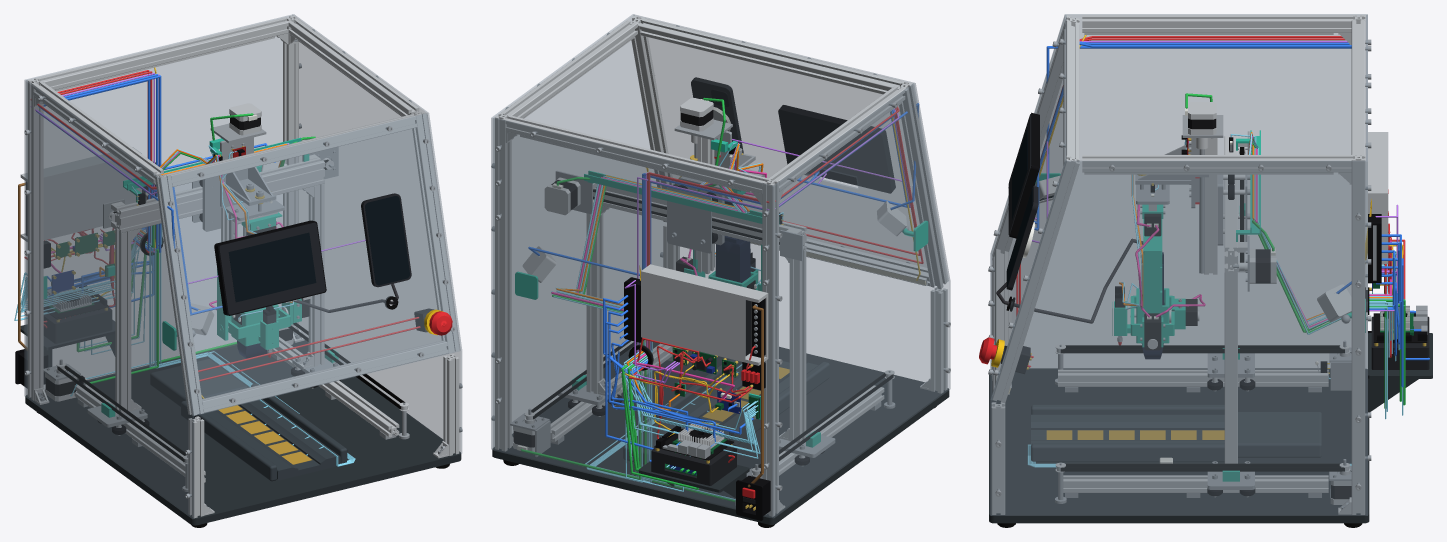
Rendered from butterfly_wired.glb.
The picture shows the model from 3 angles, left to right: view 1: azimuth 30°, elevation 25°; view 2: azimuth 150°, elevation 25°; view 3: azimuth 270°, elevation 25°; orthographic projection. The views are drawn at different scales.
Parts seen in each view (by area): view 1: front_panel_slanted, wall_side, wall_back, wall_side_2, base_plate, psu_24V_350W__case, frame_post_back, touchscreen_7in__active_area, frame_top_rail_back, arm_rest_pad, front_panel_rail, front_panel_cross_rail_2 (+46 smaller); view 2: wall_back, wall_side, wall_side_2, front_panel_slanted, base_plate, psu_24V_350W__case, frame_post_back_2, touchscreen_7in__case, front_panel_cross_rail_2, frame_post_back, frame_top_rail_back, front_panel_rail (+60 smaller); view 3: wall_side_2, wall_side, base_plate, front_panel_slanted, frame_post_back_2, frame_top_rail_side, frame_top_rail_side_2, arm_rest_pad, y_rail_2020, y_rail_2020_2, hand_pad, front_panel_rail_2 (+50 smaller).
Boxes of the visible parts, box(x1,y1,x2,y2) form: front_panel_slanted: box(160, 113, 460, 415); wall_side: box(24, 79, 193, 518); wall_back: box(26, 14, 292, 395); wall_side_2: box(293, 14, 461, 453); base_plate: box(25, 340, 461, 525); psu_24V_350W__case: box(20, 147, 141, 241); frame_post_back: box(27, 77, 43, 400); touchscreen_7in__active_area: box(228, 232, 316, 302); frame_top_rail_back: box(38, 18, 288, 89); arm_rest_pad: box(205, 399, 340, 480); front_panel_rail: box(155, 174, 203, 415); front_panel_cross_rail_2: box(166, 114, 417, 186); wall_back: box(493, 118, 772, 517); wall_side: box(772, 83, 950, 517); wall_side_2: box(491, 14, 666, 449); front_panel_slanted: box(634, 14, 948, 281); base_plate: box(492, 342, 949, 524); psu_24V_350W__case: box(641, 264, 768, 365); frame_post_back_2: box(495, 113, 511, 451); touchscreen_7in__case: box(778, 105, 895, 193); front_panel_cross_rail_2: box(639, 18, 901, 94); frame_post_back: box(762, 178, 778, 516); frame_top_rail_back: box(505, 115, 767, 193); front_panel_rail: box(897, 81, 946, 289); wall_side_2: box(990, 161, 1367, 515); wall_side: box(990, 14, 1367, 368); base_plate: box(989, 368, 1369, 523); front_panel_slanted: box(990, 15, 1066, 399); frame_post_back_2: box(1351, 154, 1365, 514); frame_top_rail_side: box(1082, 15, 1351, 32); frame_top_rail_side_2: box(1082, 155, 1351, 172); arm_rest_pad: box(1031, 414, 1224, 444); y_rail_2020: box(1058, 369, 1328, 386); y_rail_2020_2: box(1063, 475, 1328, 492); hand_pad: box(1238, 412, 1321, 457); front_panel_rail_2: box(992, 155, 1079, 402).
Size of the model in its own units: 526 by 604 by 671.
